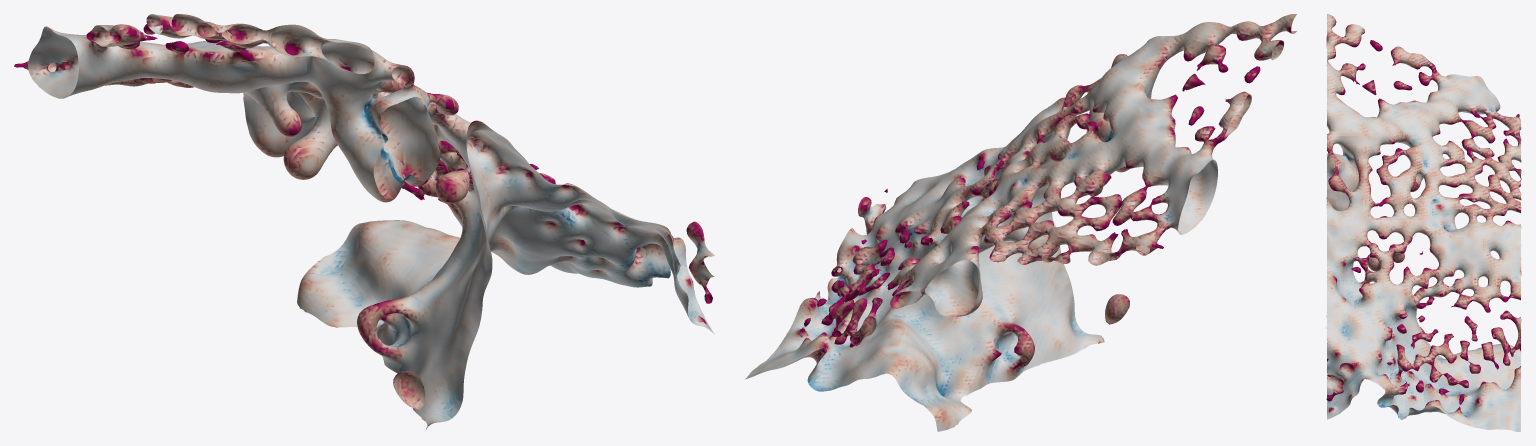
The model's file is crop1134_curvature.glb.
3 views of the same model, side by side, from view 1: azimuth 30°, elevation 25°; view 2: azimuth 150°, elevation 25°; view 3: azimuth 270°, elevation 25° (orthographic). The views are drawn at different scales.
Parts seen in each view (by area): view 1: geometry_0; view 2: geometry_0; view 3: geometry_0.
Part boxes in pixels (x1,y1,x2,y2): geometry_0: [14, 14, 714, 429]; geometry_0: [745, 14, 1296, 431]; geometry_0: [1326, 14, 1521, 431].
Bounding box in the file's own units: 2680 × 2281 × 1480.
